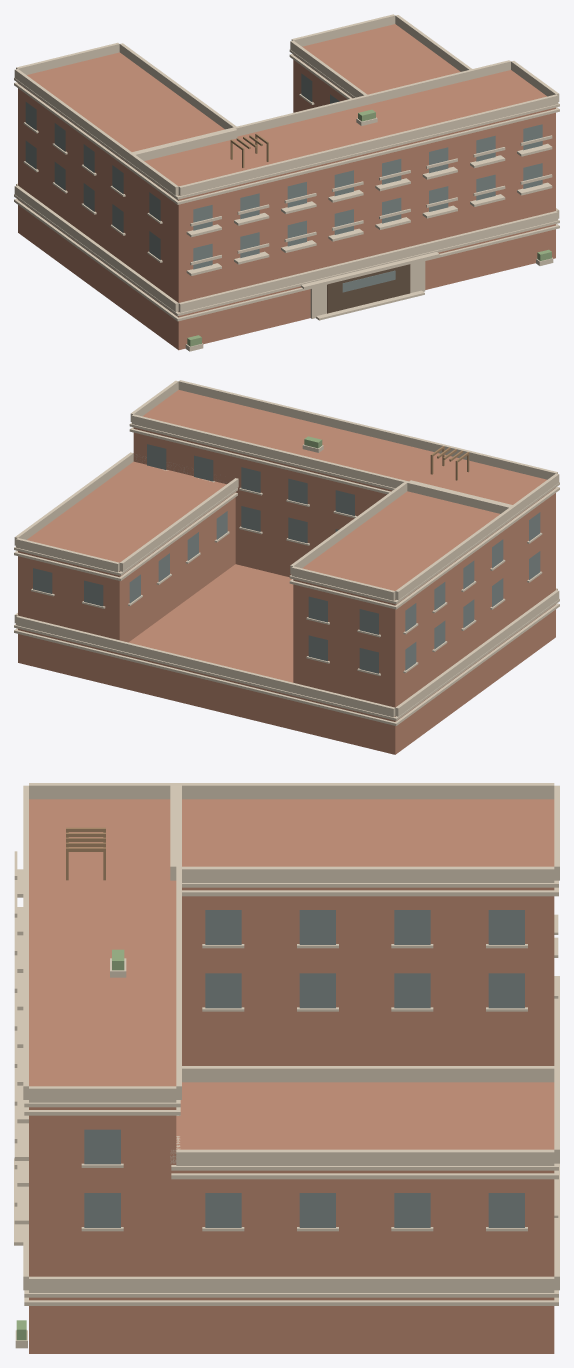
Rendered from residential_4x3_court.glb.
3 views of the same model, one above another, from view 1: azimuth 30°, elevation 25°; view 2: azimuth 150°, elevation 25°; view 3: azimuth 270°, elevation 25° (orthographic). The views are drawn at different scales.
Parts seen in each view (by area): view 1: residential_4x3_court_0; view 2: residential_4x3_court_0; view 3: residential_4x3_court_0.
Boxes of the visible parts, box(x1,y1,x2,y2) form: residential_4x3_court_0: box(14, 14, 559, 351); residential_4x3_court_0: box(14, 380, 559, 754); residential_4x3_court_0: box(14, 783, 559, 1353).
Size of the model in its own units: 31 by 13.5 by 23.4.
